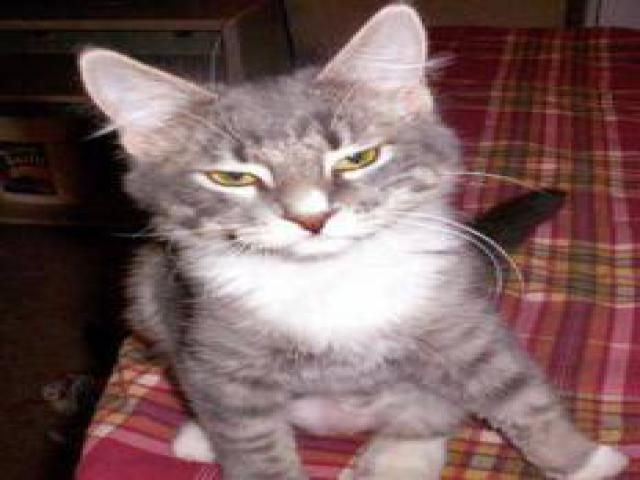cat: (63, 1, 615, 478)
